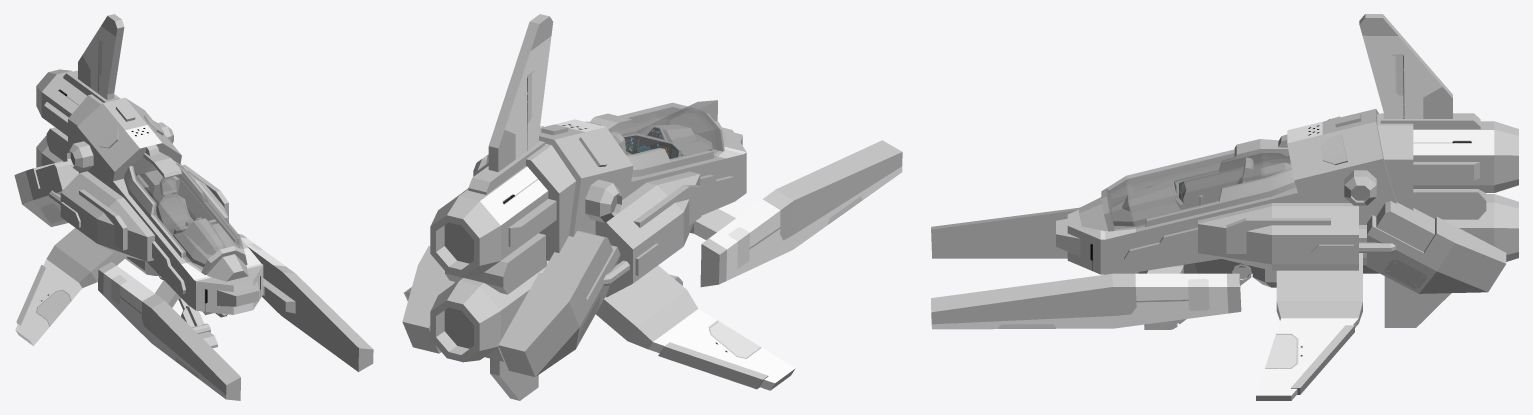
Rendered from SM_SpaceshipS_Scout01.fbx.
3 views of the same model, side by side, from view 1: azimuth 30°, elevation 25°; view 2: azimuth 150°, elevation 25°; view 3: azimuth 270°, elevation 25° (orthographic). The views are drawn at different scales.
Parts seen in each view (by area): view 1: SM_SpaceshipS_Scout01_Body, SM_SpaceshipS_Scout01_Cockpit, SM_SpaceshipS_Scout01_Cockpit_Glass, SM_Landing_1, SM_Landing_2; view 2: SM_SpaceshipS_Scout01_Body, SM_SpaceshipS_Scout01_Cockpit, SM_SpaceshipS_Scout01_Cockpit_Glass; view 3: SM_SpaceshipS_Scout01_Body, SM_SpaceshipS_Scout01_Cockpit, SM_SpaceshipS_Scout01_Cockpit_Glass.
Part boxes in pixels (x1,y1,x2,y2): SM_SpaceshipS_Scout01_Body: [14, 14, 373, 400]; SM_SpaceshipS_Scout01_Cockpit: [67, 97, 263, 317]; SM_SpaceshipS_Scout01_Cockpit_Glass: [124, 152, 243, 271]; SM_Landing_1: [158, 274, 204, 327]; SM_Landing_2: [192, 323, 217, 348]; SM_SpaceshipS_Scout01_Body: [402, 14, 902, 400]; SM_SpaceshipS_Scout01_Cockpit: [473, 108, 746, 236]; SM_SpaceshipS_Scout01_Cockpit_Glass: [590, 102, 723, 176]; SM_SpaceshipS_Scout01_Body: [931, 14, 1518, 400]; SM_SpaceshipS_Scout01_Cockpit: [1056, 109, 1396, 287]; SM_SpaceshipS_Scout01_Cockpit_Glass: [1106, 139, 1295, 230].
Bounding box in the file's own units: 506 × 472 × 811.
